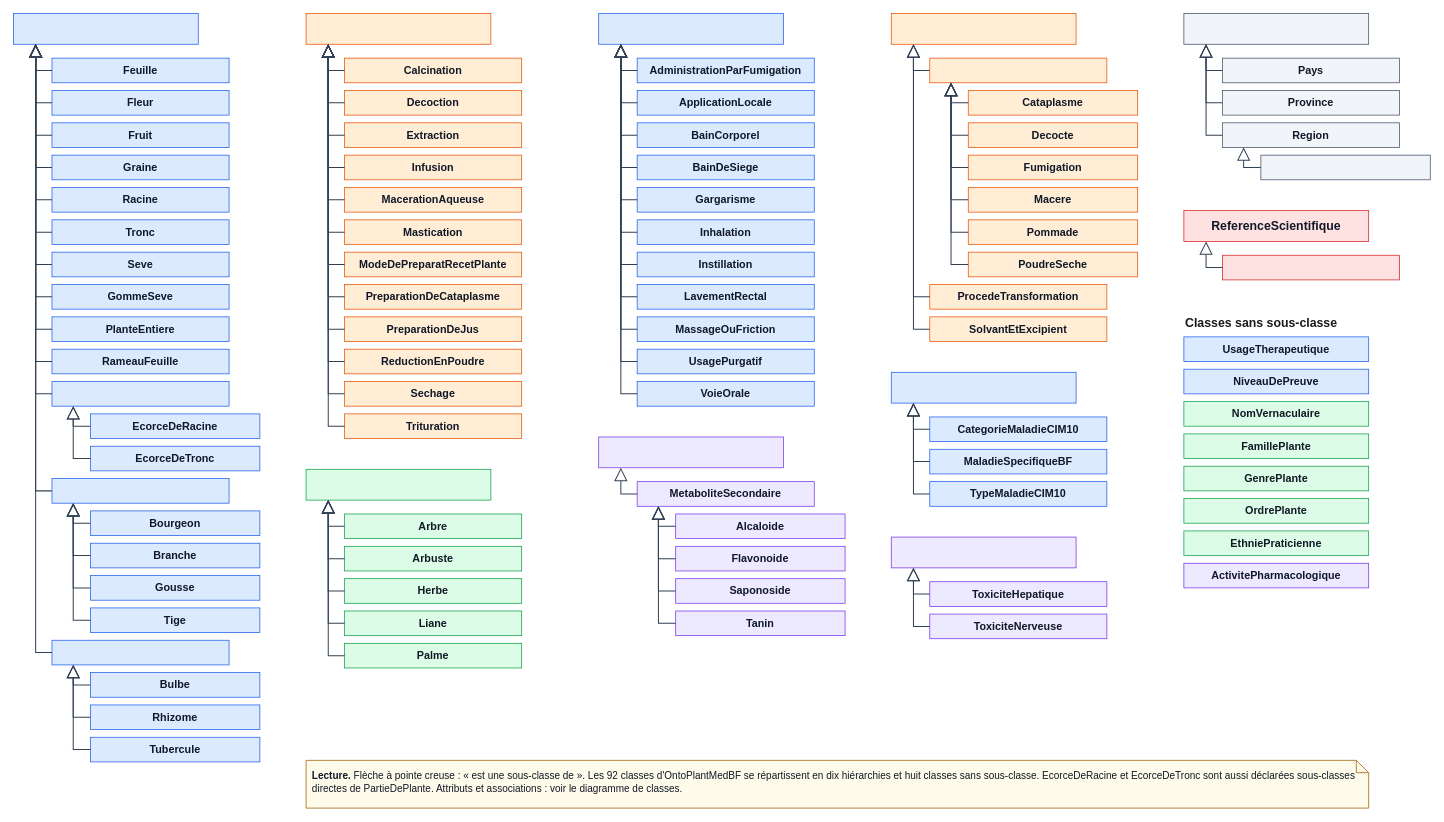
The diagram is 1444 pixels wide and 822 high, and some of its shapes have lost their labels. Here are the shapes that lost their labels. From the top down, the centre of each, then its label:
At point 105,28: "PartieDePlante".
At point 398,28: "ModeDePreparation".
At point 690,28: "ModeAdministration".
At point 983,28: "Preparation".
At point 1276,28: "Localite".
At point 1018,70: "FormeGalenique".
At point 1345,167: "RegionBF".
At point 1310,267: "SourceScientifique".
At point 140,393: "Ecorce".
At point 983,387: "Maladie".
At point 690,452: "ComposeChimique".
At point 140,490: "OrganeAerien".
At point 398,484: "Plante".
At point 983,552: "EffetToxicologique".
At point 140,652: "OrganeSouterrain".
